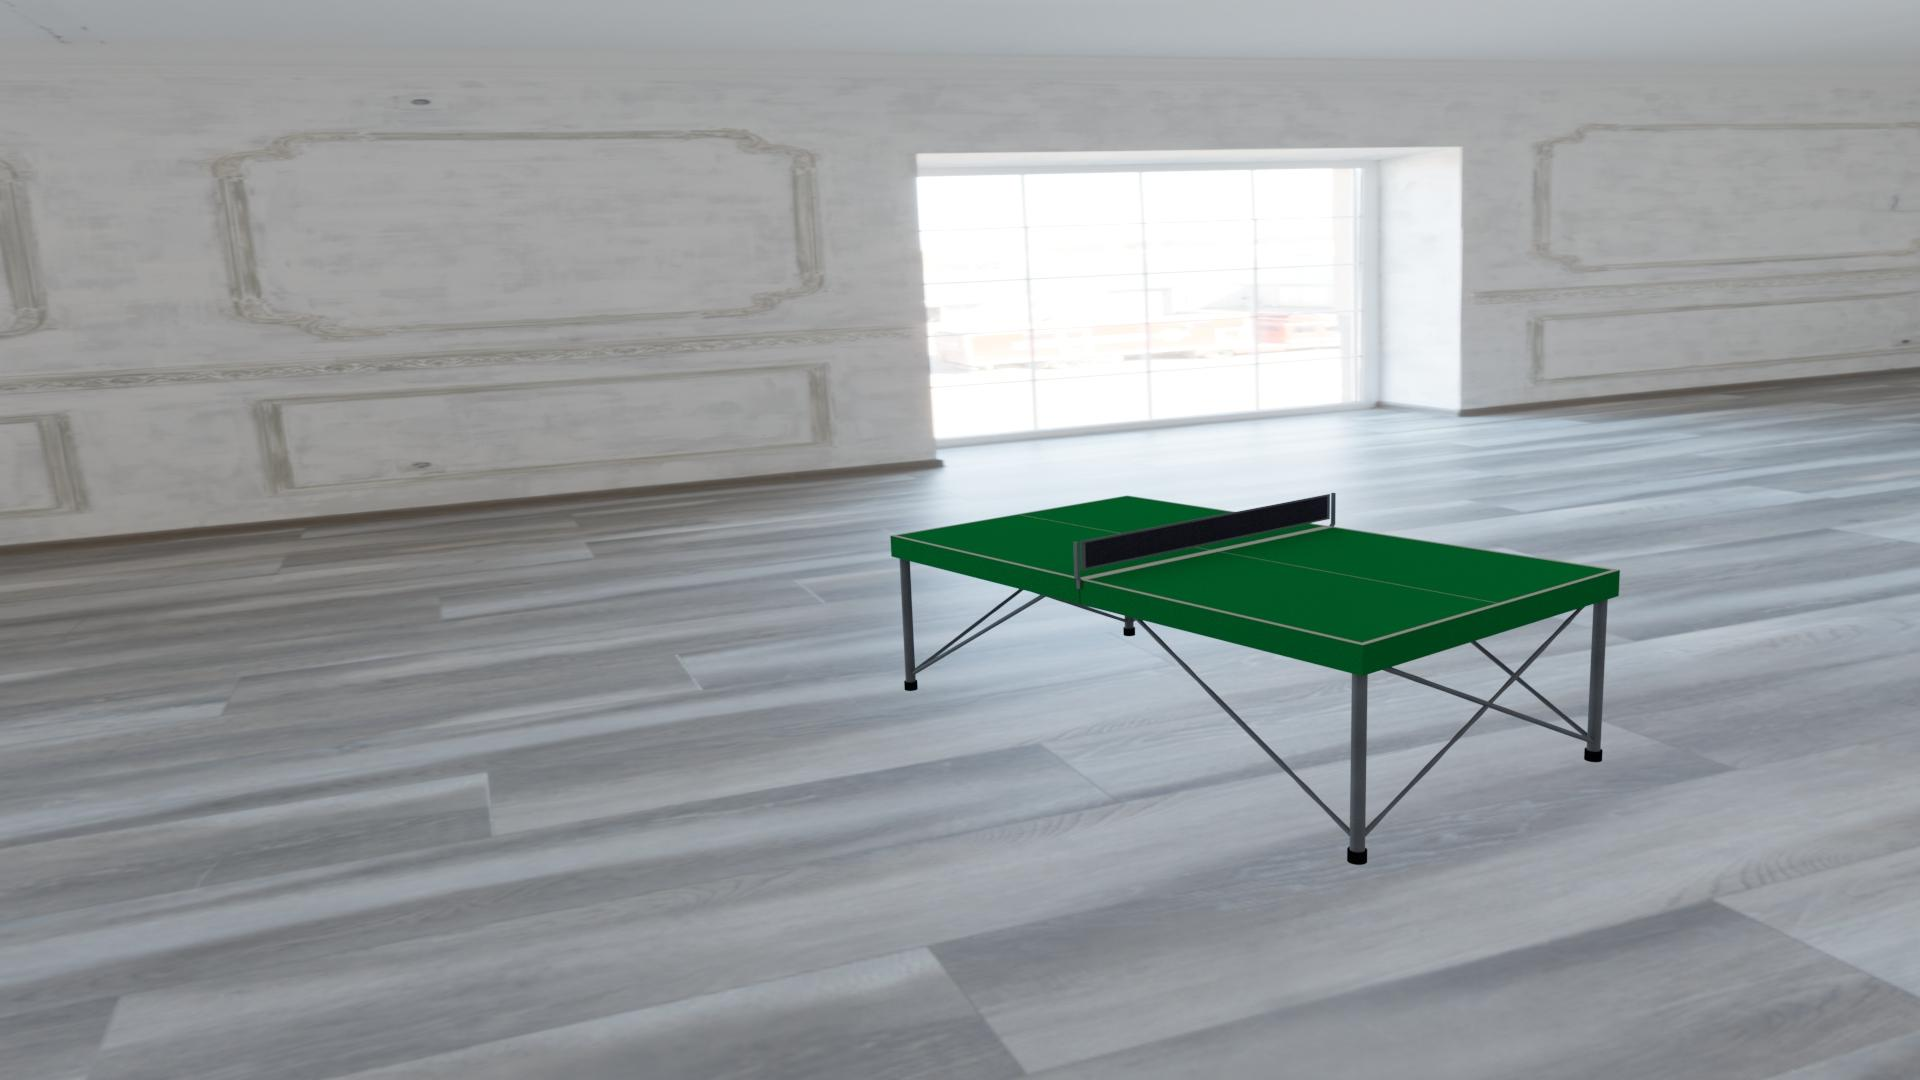table: (895, 496, 1613, 642)
